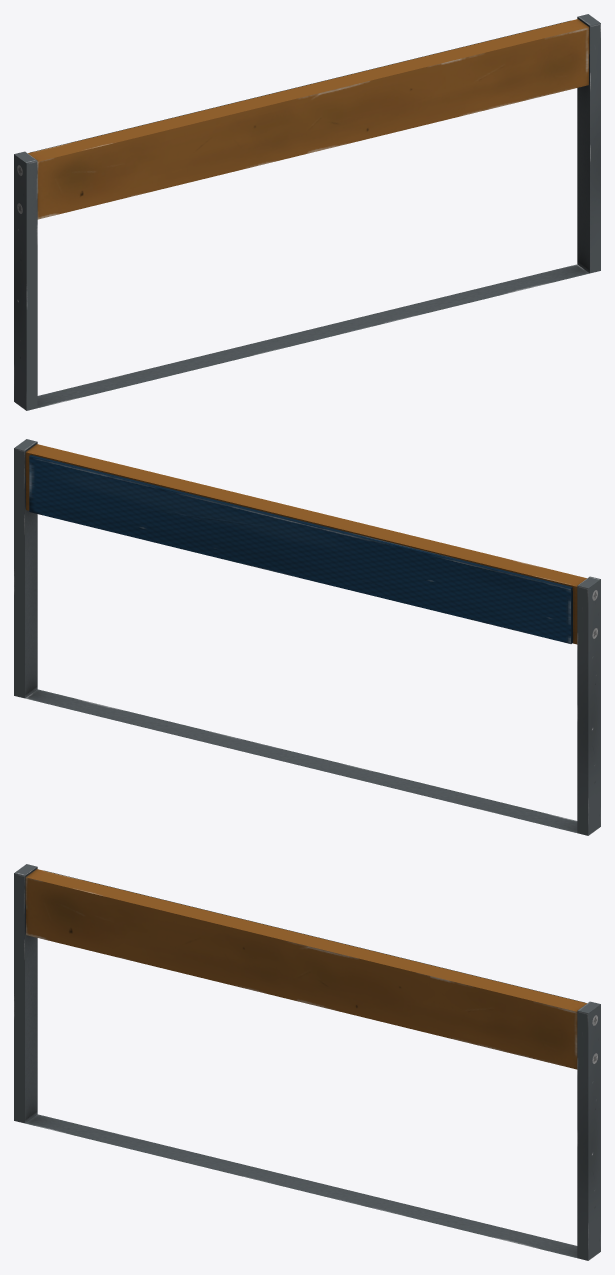
The model's file is StopBlade.glb.
The picture shows the model from 3 angles, top to bottom: view 1: azimuth 30°, elevation 25°; view 2: azimuth 150°, elevation 25°; view 3: azimuth 330°, elevation 25°; orthographic projection.
Visible parts, largest first — view 1: StopBladeBlade; view 2: StopBladeBlade; view 3: StopBladeBlade.
Boxes of the visible parts, x1=… form: StopBladeBlade: x1=14, y1=14, x2=600, y2=410; StopBladeBlade: x1=14, y1=439, x2=600, y2=835; StopBladeBlade: x1=14, y1=864, x2=600, y2=1260.
Bounding box in the file's own units: 0.771 × 0.317 × 0.0315.
1 material, 1 textured.
